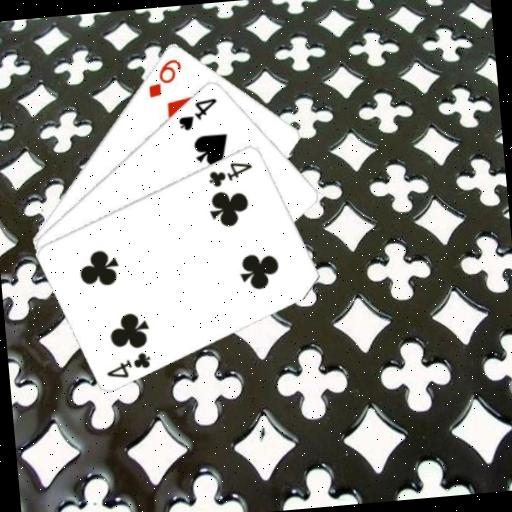4C: (102, 348, 155, 381), (204, 157, 255, 189)
4S: (174, 94, 221, 133)
6D: (142, 55, 186, 100)
